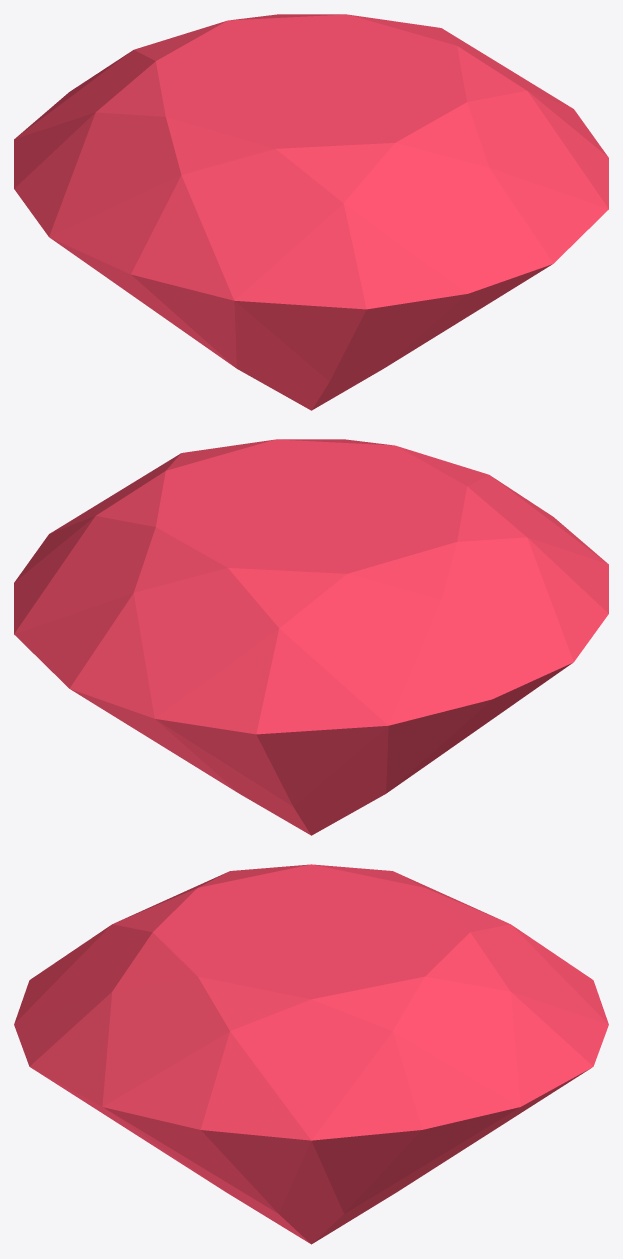
File: Ruby.fbx
The picture shows the model from 3 angles, top to bottom: view 1: azimuth 30°, elevation 25°; view 2: azimuth 150°, elevation 25°; view 3: azimuth 270°, elevation 25°; orthographic projection. The views are drawn at different scales.
Parts seen in each view (by area): view 1: Plane; view 2: Plane; view 3: Plane.
Part boxes in pixels (x1,y1,x2,y2): Plane: (14, 14, 608, 410); Plane: (14, 439, 608, 835); Plane: (14, 864, 608, 1244).
Bounding box in the file's own units: 516 × 309 × 534.
